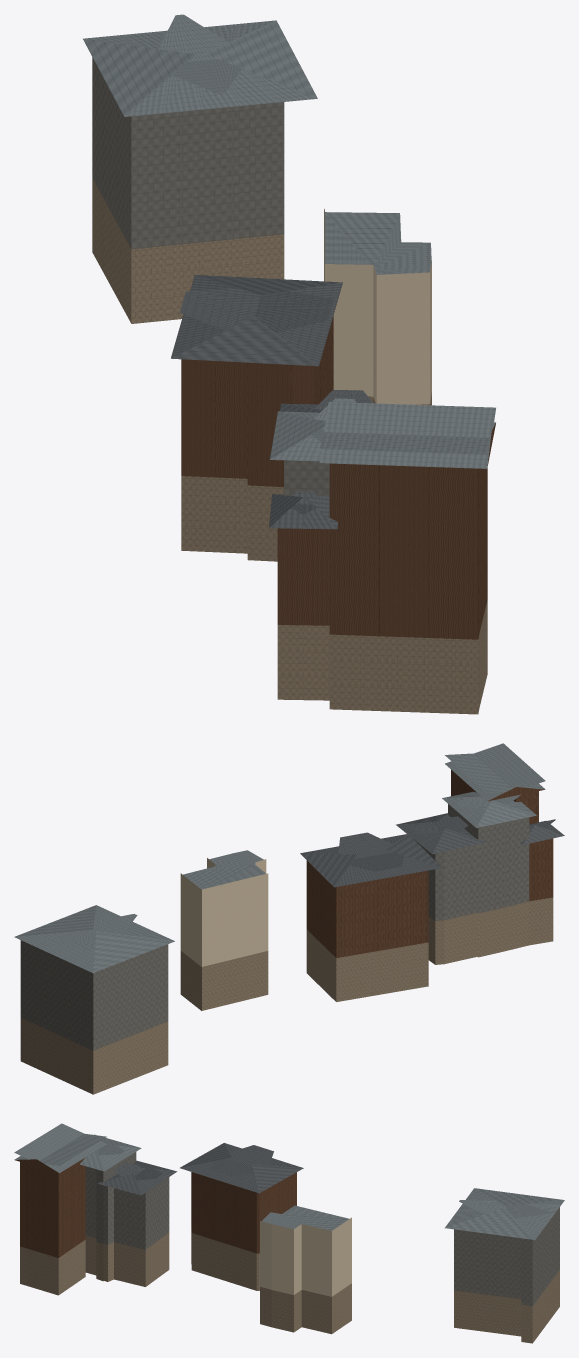
File: bld_c-22_11_544.gltf
3 views of the same model, one above another, from view 1: azimuth 30°, elevation 25°; view 2: azimuth 150°, elevation 25°; view 3: azimuth 270°, elevation 25° (orthographic). The views are drawn at different scales.
Parts seen in each view (by area): view 1: bld_c-22_11_544; view 2: bld_c-22_11_544; view 3: bld_c-22_11_544.
Boxes of the visible parts, x1=… form: bld_c-22_11_544: x1=83, y1=14, x2=495, y2=714; bld_c-22_11_544: x1=14, y1=743, x2=564, y2=1094; bld_c-22_11_544: x1=14, y1=1123, x2=564, y2=1343.
Size of the model in its own units: 33.69 by 18 by 68.11.
Materials: 8 (8 with a texture image).
